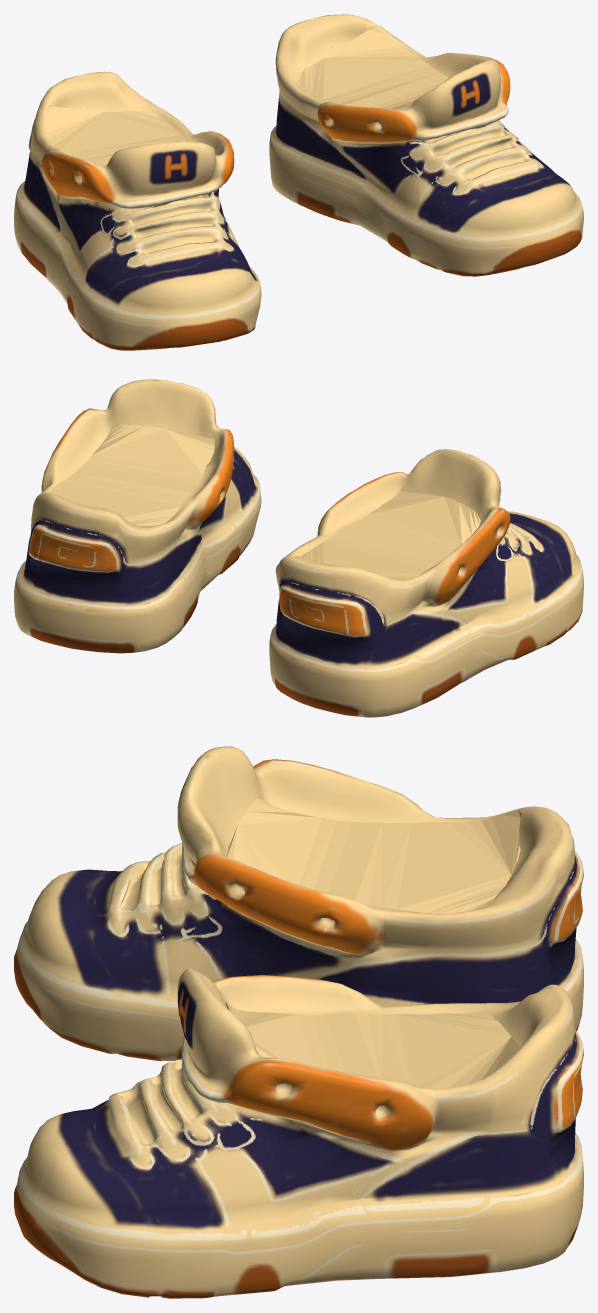
The model's file is Shoes.glb.
3 views of the same model, one above another, from view 1: azimuth 30°, elevation 25°; view 2: azimuth 150°, elevation 25°; view 3: azimuth 270°, elevation 25° (orthographic). The views are drawn at different scales.
Visible parts, largest first — view 1: Shoe_low; view 2: Shoe_low; view 3: Shoe_low.
Boxes of the visible parts, bbox=[...] form: Shoe_low: bbox=[14, 14, 583, 350]; Shoe_low: bbox=[14, 379, 583, 717]; Shoe_low: bbox=[14, 746, 583, 1298].
Bounding box in the file's own units: 0.5084 × 0.1757 × 0.3515.
1 material, 1 textured.
